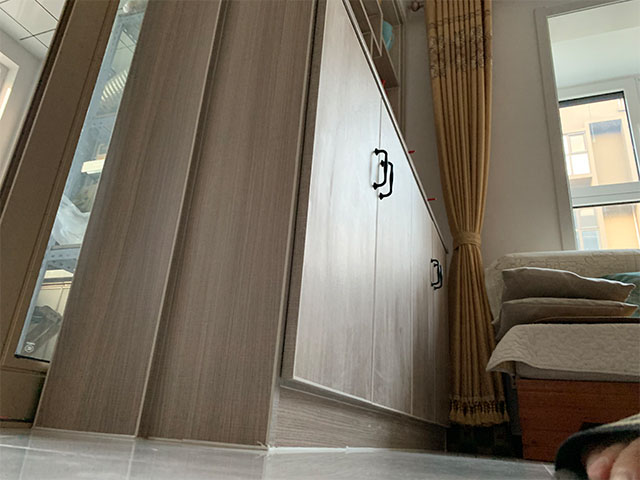cabinet: (270, 1, 444, 449)
curtain: (422, 1, 512, 427)
sofa: (487, 247, 640, 464)
